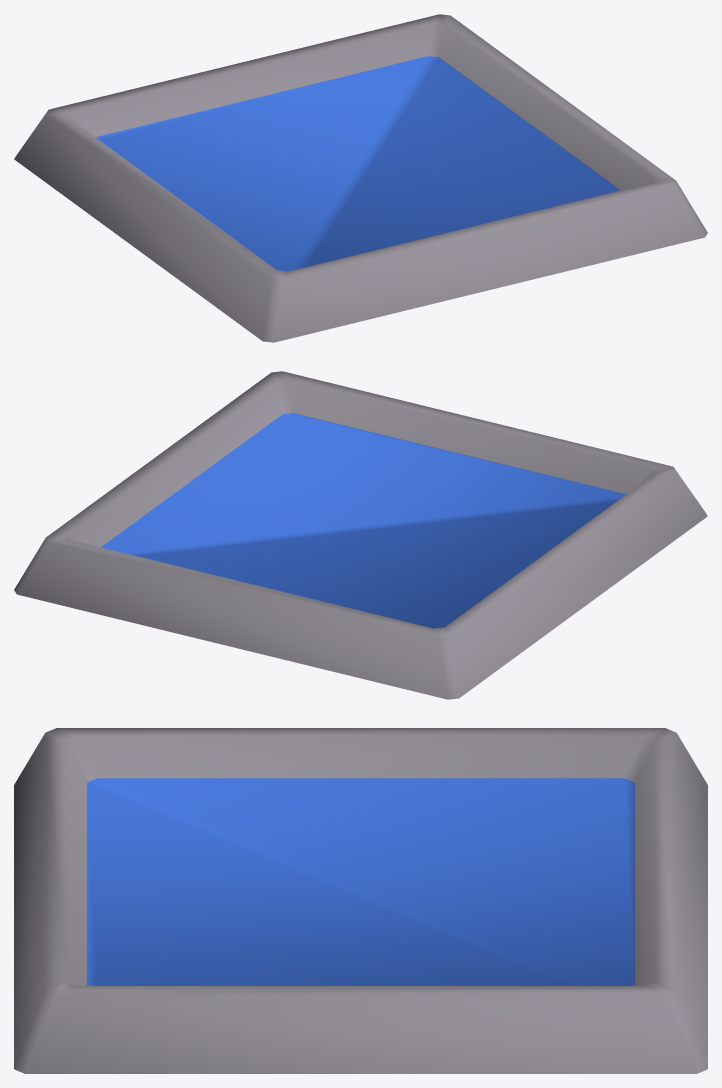
The model's file is Asset_podest_bulding_player1.fbx.
The picture shows the model from 3 angles, top to bottom: view 1: azimuth 30°, elevation 25°; view 2: azimuth 150°, elevation 25°; view 3: azimuth 270°, elevation 25°; orthographic projection. The views are drawn at different scales.
Visible parts, largest first — view 1: Cube; view 2: Cube; view 3: Cube.
Part boxes in pixels (x1=…): Cube: x1=14, y1=14, x2=707, y2=342; Cube: x1=14, y1=371, x2=707, y2=699; Cube: x1=14, y1=728, x2=707, y2=1073.
Bounding box in the file's own units: 200 × 20.87 × 200.
